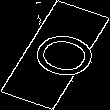O_SE: (12, 25, 98, 85)
